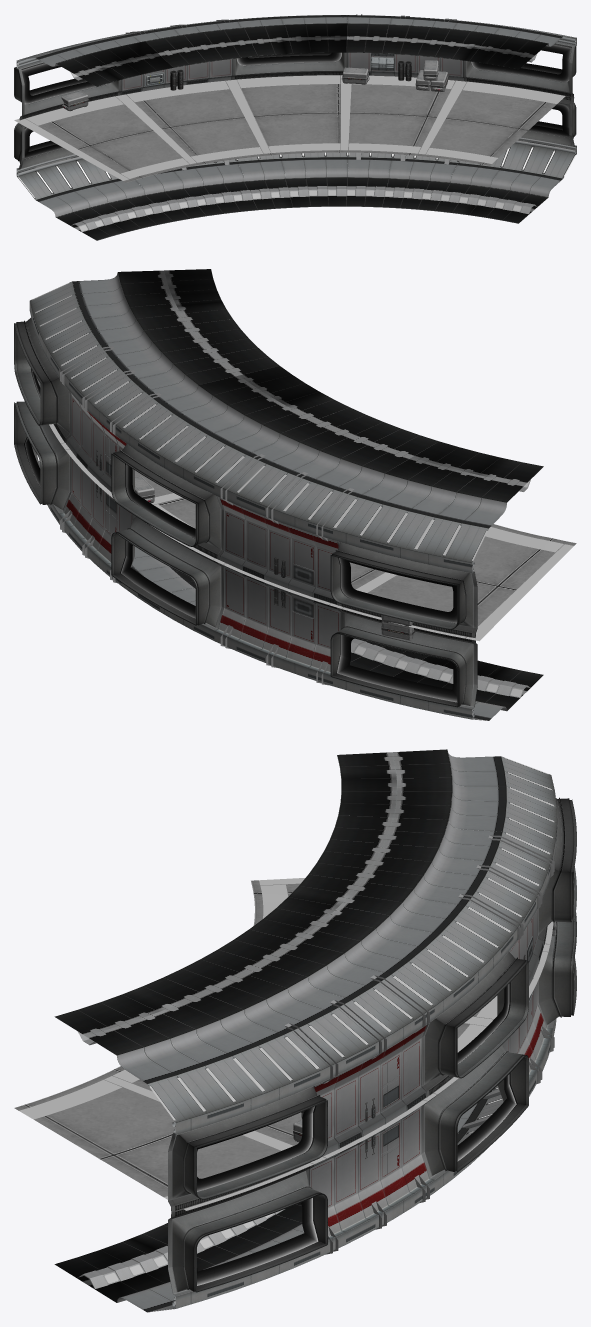
Rendered from env_med_hall_01_pre.glb.
3 views of the same model, one above another, from view 1: azimuth 30°, elevation 25°; view 2: azimuth 150°, elevation 25°; view 3: azimuth 270°, elevation 25° (orthographic). The views are drawn at different scales.
Visible parts, largest first — view 1: med_floor_hall_01, med_floor_hall_01 (1), med_window_02_curve (×3), med_wall_02_curve (×2), med_window_02_curve (2), med_window_02_curve (3), med_window_02_curve (1), med_wall_02_curve (2), med_wall_02_curve (1), med_window_02_curve_glass (×5), med_crate_01 (4), med_crate_01 (10) (+3 smaller); view 2: med_window_02_curve (×3), med_wall_02_curve (×2), med_wall_02_curve (1), med_window_02_curve (2), med_floor_hall_01, med_window_02_curve (1), med_window_02_curve_glass (×4), med_wall_02_curve (2), med_window_02_curve (3), med_floor_hall_01 (1); view 3: med_window_02_curve (×3), med_wall_02_curve (×2), med_floor_hall_01, med_window_02_curve (3), med_wall_02_curve (2), med_window_02_curve (1), med_window_02_curve_glass (×4), med_wall_02_curve (1), med_window_02_curve (2), med_floor_hall_01 (1).
Boxes of the visible parts, x1=… form: med_floor_hall_01: x1=33, y1=75, x2=565, y2=182; med_floor_hall_01 (1): x1=14, y1=75, x2=497, y2=182; med_window_02_curve (×3): x1=14, y1=15, x2=576, y2=120; med_wall_02_curve (×2): x1=120, y1=14, x2=463, y2=95; med_window_02_curve (2): x1=14, y1=123, x2=173, y2=240; med_window_02_curve (3): x1=435, y1=96, x2=576, y2=223; med_window_02_curve (1): x1=237, y1=152, x2=347, y2=210; med_wall_02_curve (2): x1=346, y1=152, x2=458, y2=211; med_wall_02_curve (1): x1=135, y1=159, x2=257, y2=221; med_window_02_curve_glass (×5): x1=21, y1=44, x2=571, y2=158; med_crate_01 (4): x1=341, y1=67, x2=369, y2=84; med_crate_01 (10): x1=61, y1=91, x2=88, y2=110; med_window_02_curve (×3): x1=14, y1=269, x2=543, y2=637; med_wall_02_curve (×2): x1=59, y1=319, x2=438, y2=605; med_wall_02_curve (1): x1=214, y1=564, x2=427, y2=686; med_window_02_curve (2): x1=330, y1=608, x2=543, y2=720; med_floor_hall_01: x1=49, y1=424, x2=576, y2=641; med_window_02_curve (1): x1=111, y1=514, x2=223, y2=640; med_window_02_curve_glass (×4): x1=121, y1=450, x2=462, y2=702; med_wall_02_curve (2): x1=59, y1=458, x2=195, y2=592; med_window_02_curve (3): x1=14, y1=401, x2=71, y2=523; med_floor_hall_01 (1): x1=49, y1=424, x2=575, y2=637; med_window_02_curve (×3): x1=54, y1=749, x2=576, y2=1212; med_wall_02_curve (×2): x1=163, y1=815, x2=554, y2=1156; med_floor_hall_01: x1=14, y1=878, x2=553, y2=1210; med_window_02_curve (3): x1=54, y1=1164, x2=327, y2=1312; med_wall_02_curve (2): x1=163, y1=1102, x2=434, y2=1256; med_window_02_curve (1): x1=422, y1=1045, x2=528, y2=1192; med_window_02_curve_glass (×4): x1=188, y1=958, x2=516, y2=1285; med_wall_02_curve (1): x1=457, y1=981, x2=554, y2=1134; med_window_02_curve (2): x1=538, y1=913, x2=576, y2=1036; med_floor_hall_01 (1): x1=19, y1=879, x2=553, y2=1208.
Size of the model in its own units: 37.27 by 12.1 by 24.95.
Materials: 12 (11 with a texture image).
